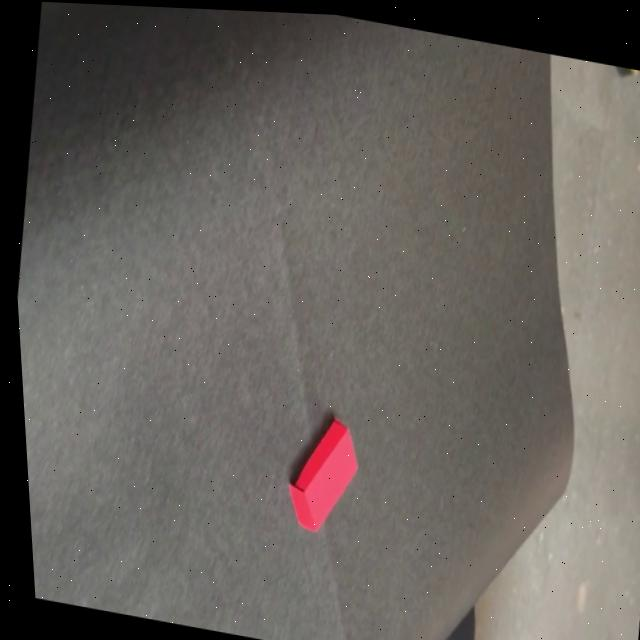red block: (279, 406, 370, 538)
